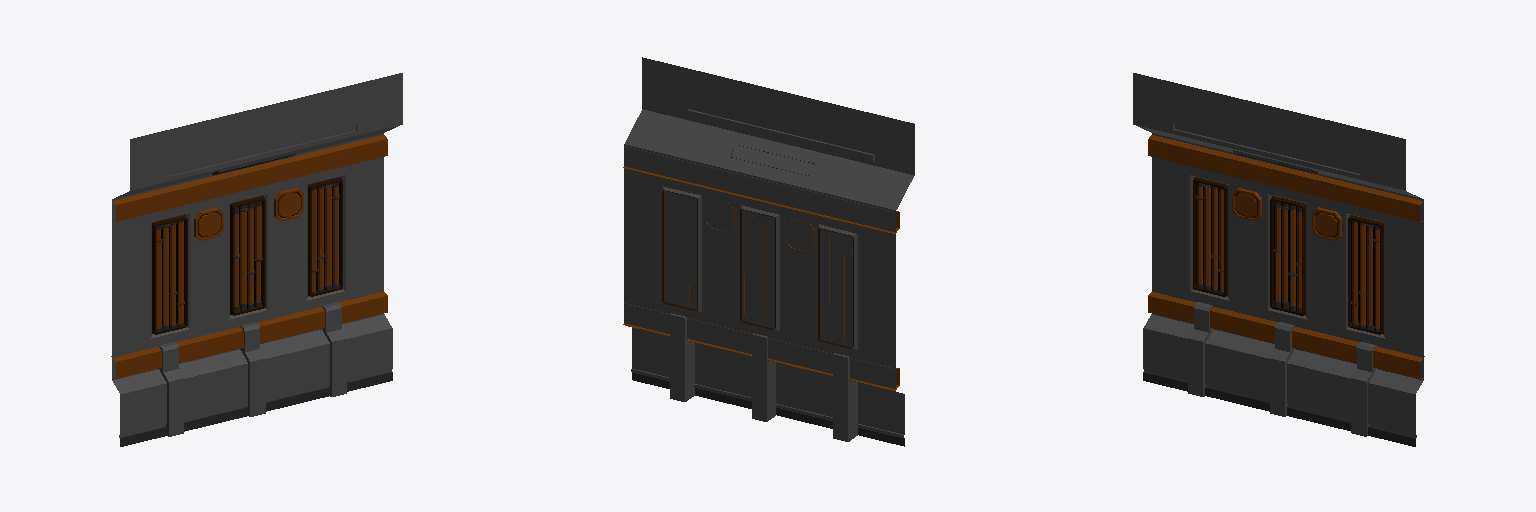
Rendered from Wall_2.obj.
3 renders of one model, left to right at view 1: azimuth 30°, elevation 25°; view 2: azimuth 150°, elevation 25°; view 3: azimuth 330°, elevation 25°, orthographic.
Visible parts, largest first — view 1: Wall_2_Plane.050; view 2: Wall_2_Plane.050; view 3: Wall_2_Plane.050.
Boxes of the visible parts, x1,y1,x2,y2 form: Wall_2_Plane.050: [111, 73, 402, 446]; Wall_2_Plane.050: [623, 57, 914, 446]; Wall_2_Plane.050: [1133, 73, 1424, 446].
Size of the model in its own units: 4 by 4.43 by 0.5334.